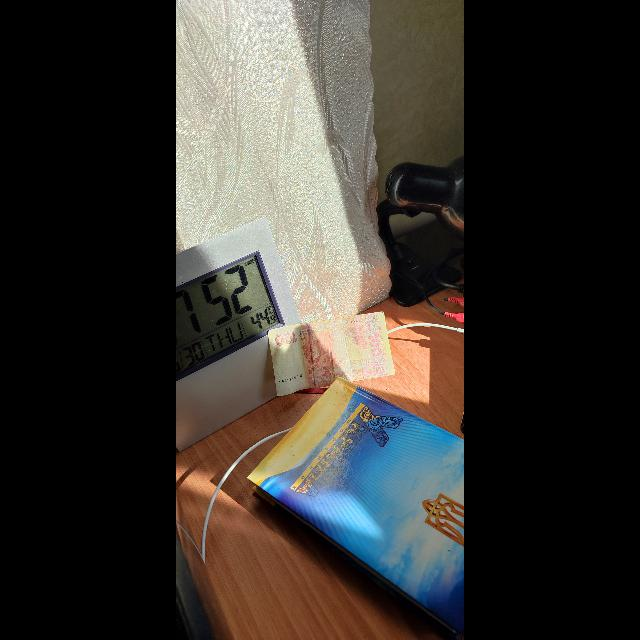100uah: (267, 314, 395, 398)
